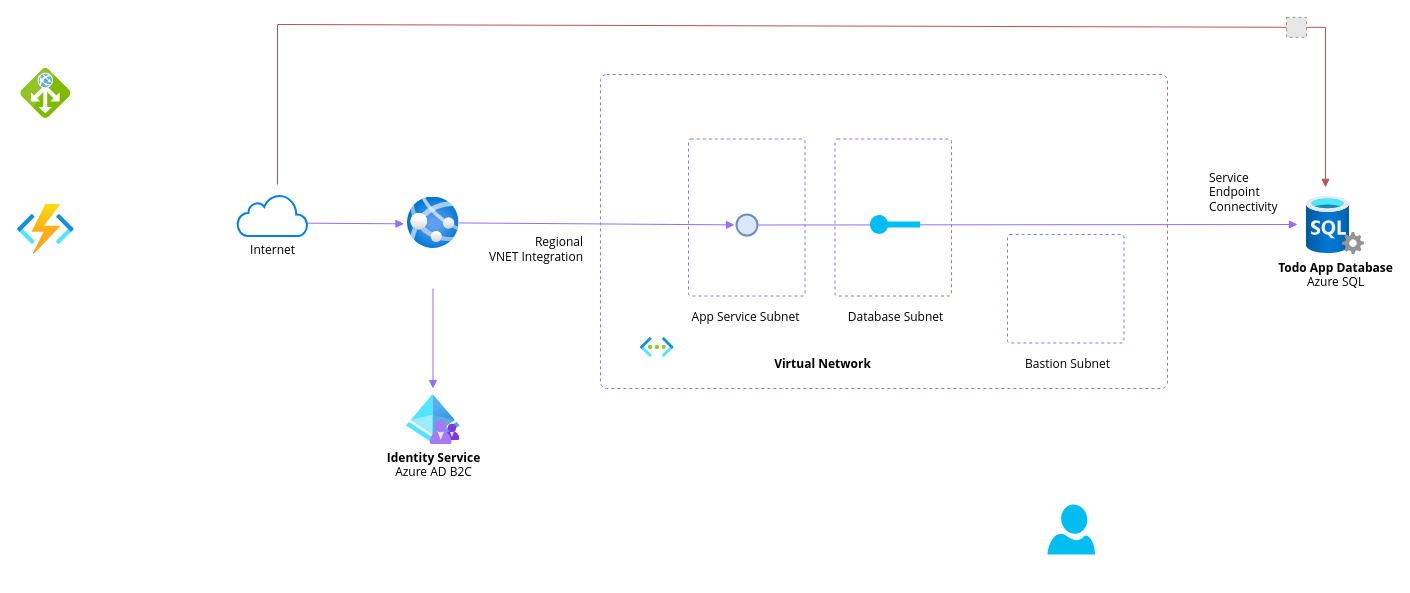
The diagram is 1410 pixels wide and 593 high, and some of its shapes have lost their labels. Grey dashed boxes stand in for pictures. Here are the shapes that lost their labels. From the top down, the centre of each, then its label:
(x=432, y=222): Todo App App Service
(x=1070, y=529): Developer
